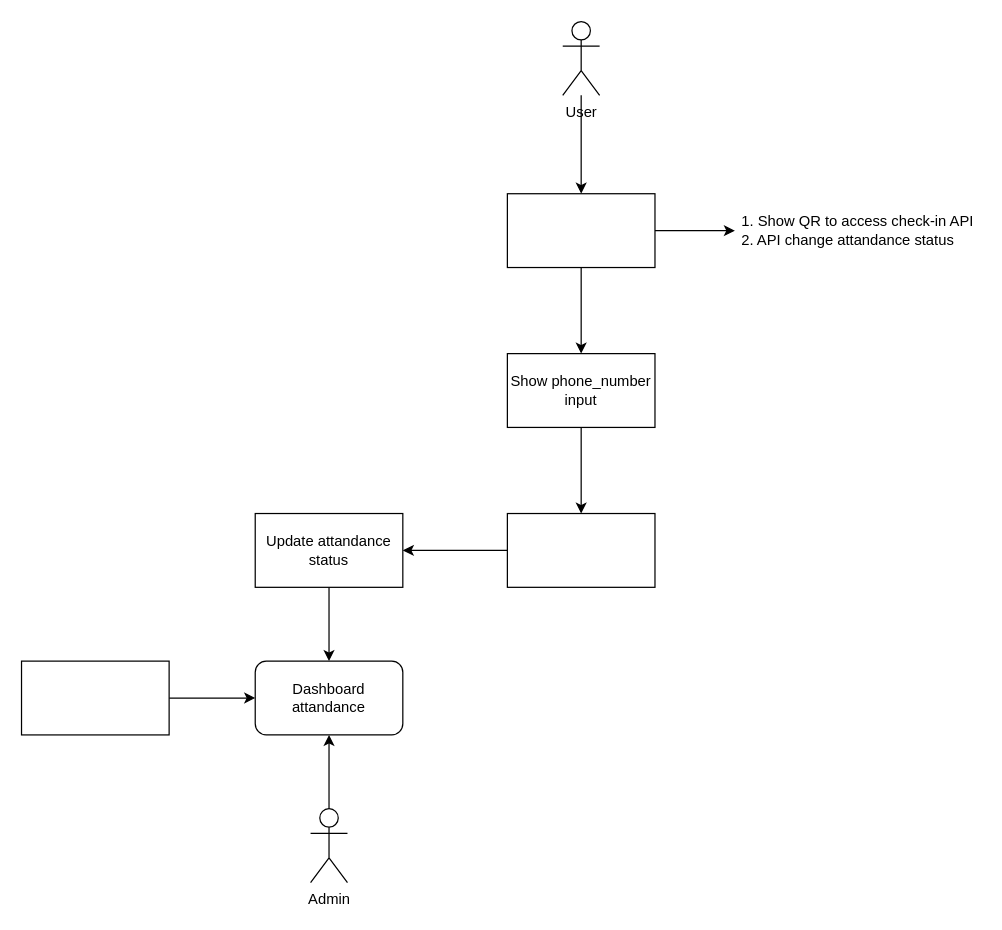
Some shapes in this 1002 by 930 pixel diagram are drawn without their labels. Here are the shapes that lost their labels. From the top down, the box of each, then its label:
(506, 192, 655, 268): Scan QR
(506, 512, 655, 587): checkout and show shirt size
(20, 660, 169, 735): Import attandance from google-form
